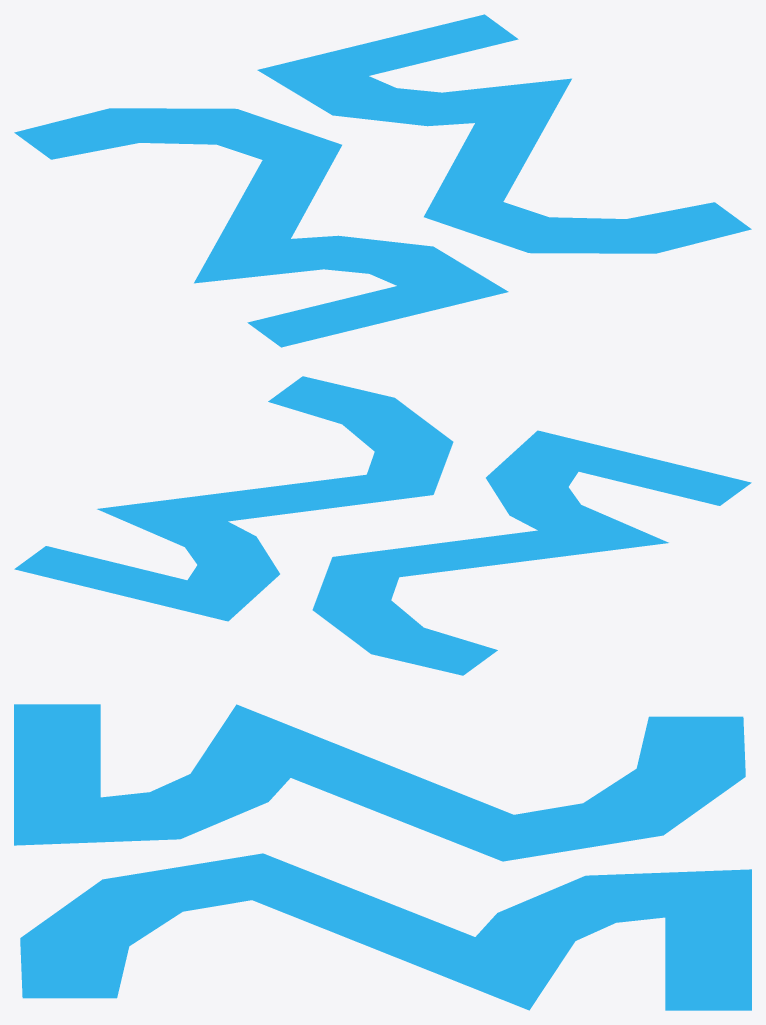
File: hieroglyph_015.glb
3 renders of one model, top to bottom at view 1: azimuth 30°, elevation 25°; view 2: azimuth 150°, elevation 25°; view 3: azimuth 270°, elevation 25°, orthographic. The views are drawn at different scales.
Parts seen in each view (by area): view 1: hieroglyph_015; view 2: hieroglyph_015; view 3: hieroglyph_015.
Part boxes in pixels (x1=…): hieroglyph_015: x1=14, y1=14, x2=751, y2=347; hieroglyph_015: x1=14, y1=376, x2=751, y2=675; hieroglyph_015: x1=14, y1=704, x2=751, y2=1010.
Bounding box in the file's own units: 0.5054 × 0 × 0.5146.
1 material, 1 textured.
